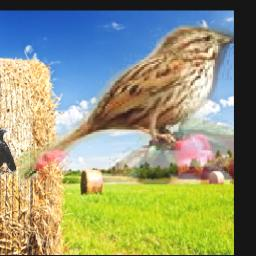Crow: (0, 129, 17, 176)
Sparrow: (13, 22, 234, 185)
